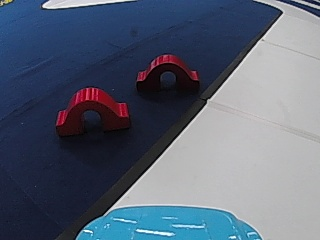bridge: (52, 82, 132, 136), (134, 50, 200, 94)
